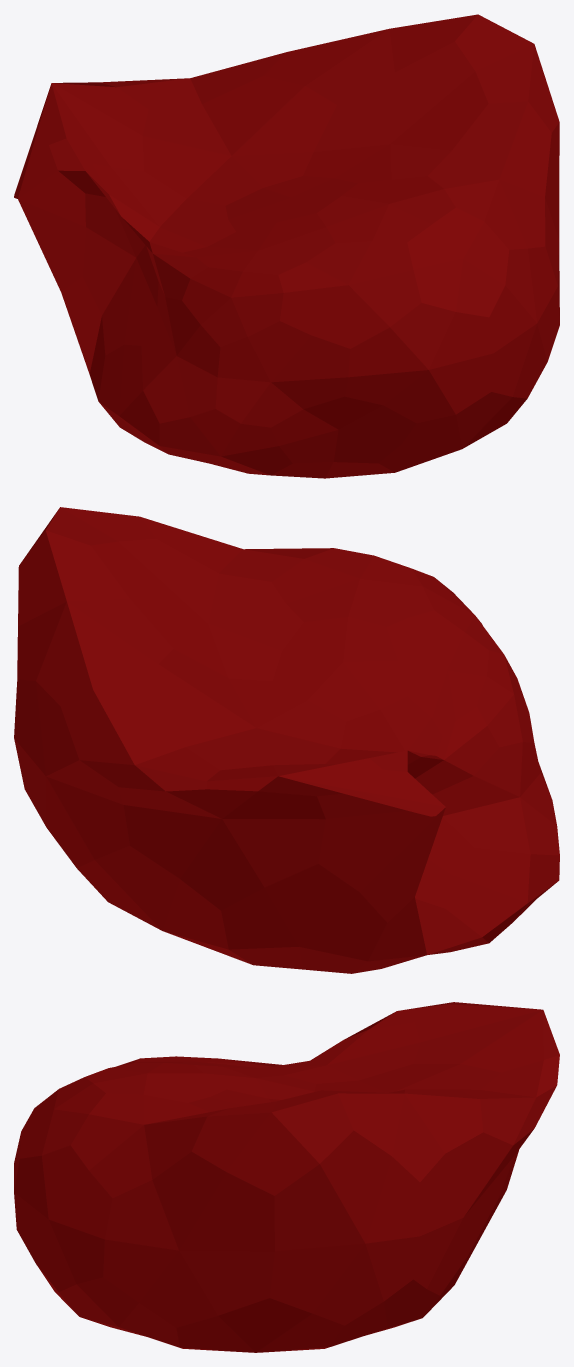
The model's file is tinokatamari.fbx.
The picture shows the model from 3 angles, top to bottom: view 1: azimuth 30°, elevation 25°; view 2: azimuth 150°, elevation 25°; view 3: azimuth 270°, elevation 25°; orthographic projection. The views are drawn at different scales.
Visible parts, largest first — view 1: ICO球; view 2: ICO球; view 3: ICO球.
Boxes of the visible parts, bbox=[...] form: ICO球: bbox=[14, 14, 559, 478]; ICO球: bbox=[14, 507, 559, 973]; ICO球: bbox=[14, 1002, 559, 1352].
Size of the model in its own units: 180 by 126 by 199.
